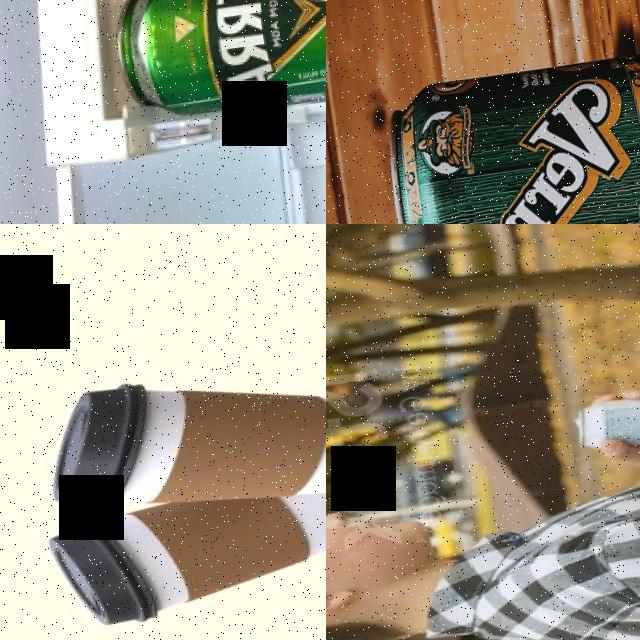can: (377, 47, 640, 224), (108, 0, 326, 131), (569, 388, 640, 454)
cup: (34, 347, 326, 535), (41, 475, 326, 638)
